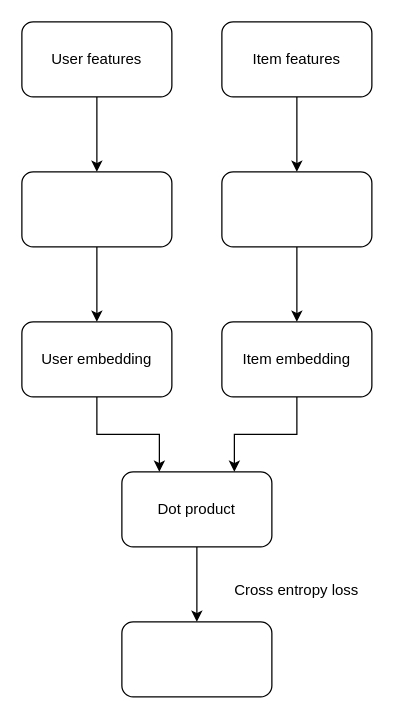
Image size: 394x719. Some labels were removed from this diagram. The shapes that lost their labels are listed below. From the top down, each one's centre as x and y in pixels, then its label:
At point (96, 209): "User encoder (DNN)".
At point (296, 209): "Item encoder (DNN)".
At point (196, 659): "0 or 1".
